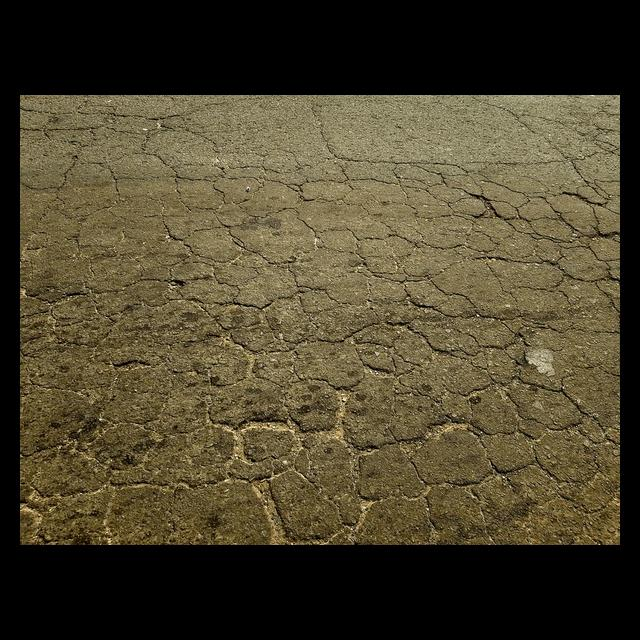retak_kulit_buaya: (20, 95, 620, 545)
